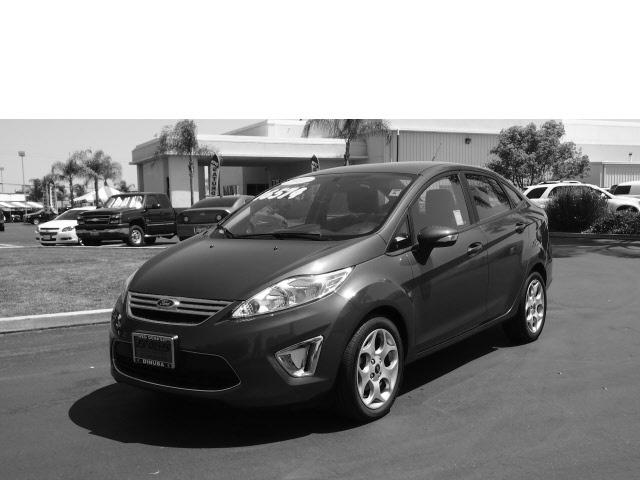car: (109, 163, 553, 425)
